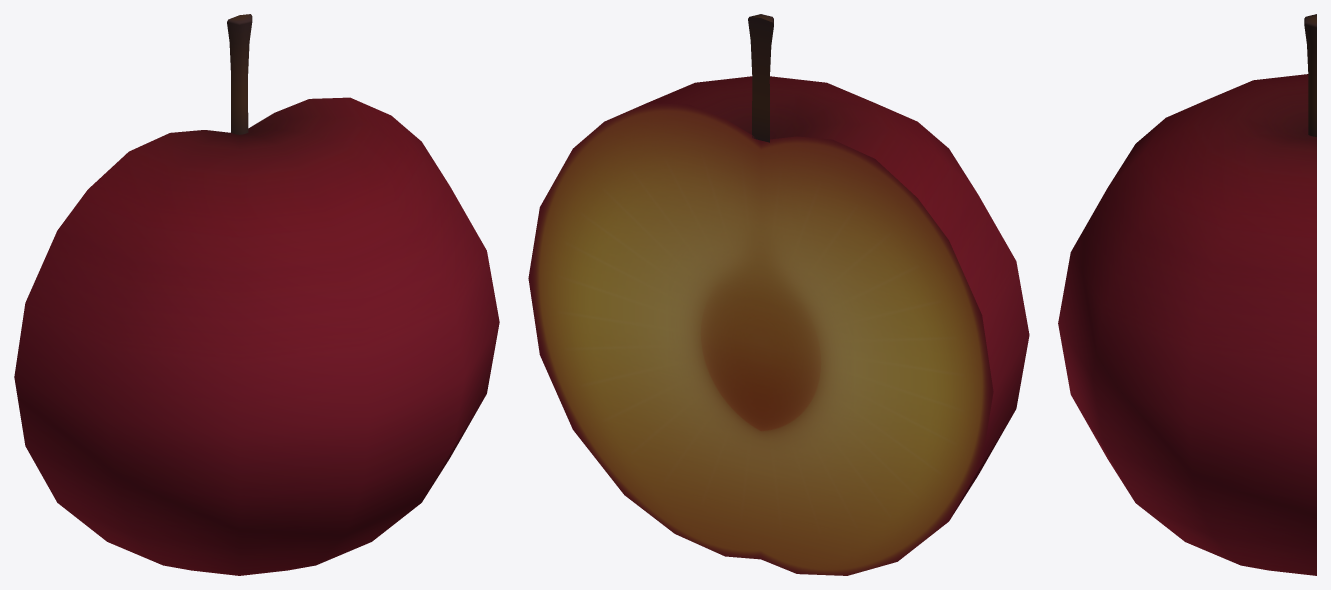
Rendered from Plum_Half_Back.fbx.
3 renders of one model, left to right at view 1: azimuth 30°, elevation 25°; view 2: azimuth 150°, elevation 25°; view 3: azimuth 270°, elevation 25°, orthographic. The views are drawn at different scales.
Visible parts, largest first — view 1: Plum_Half_Back; view 2: Plum_Half_Back; view 3: Plum_Half_Back.
Boxes of the visible parts, <box> form: Plum_Half_Back: <box>14,14,499,575</box>; Plum_Half_Back: <box>528,14,1029,575</box>; Plum_Half_Back: <box>1058,14,1316,575</box>.
Size of the model in its own units: 1.18 by 1.33 by 0.5906.
